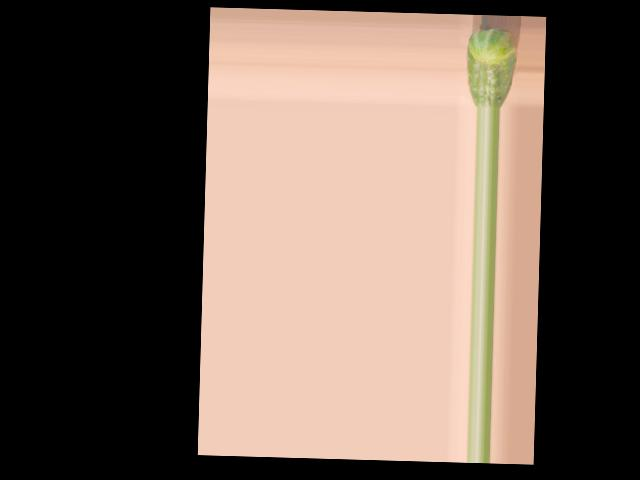cucumber: (464, 28, 517, 108)
